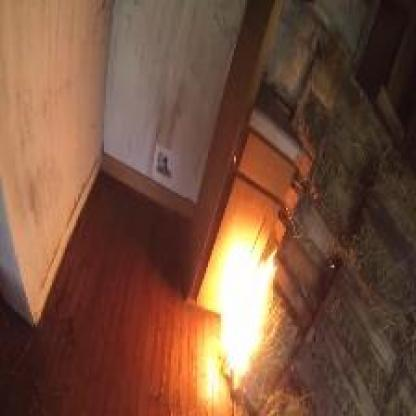fire: (214, 195, 309, 389)
